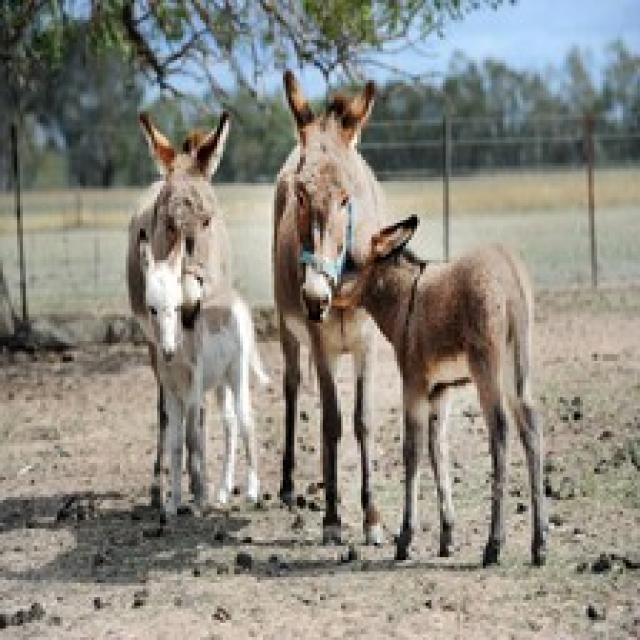Donkey: (332, 211, 548, 566), (260, 60, 410, 550), (89, 286, 274, 534), (98, 104, 234, 306)
